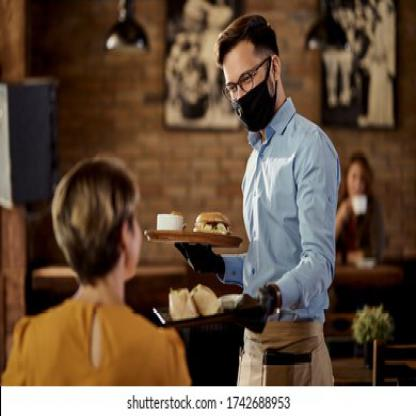with_gloves: (235, 291, 274, 334), (175, 241, 224, 275)
